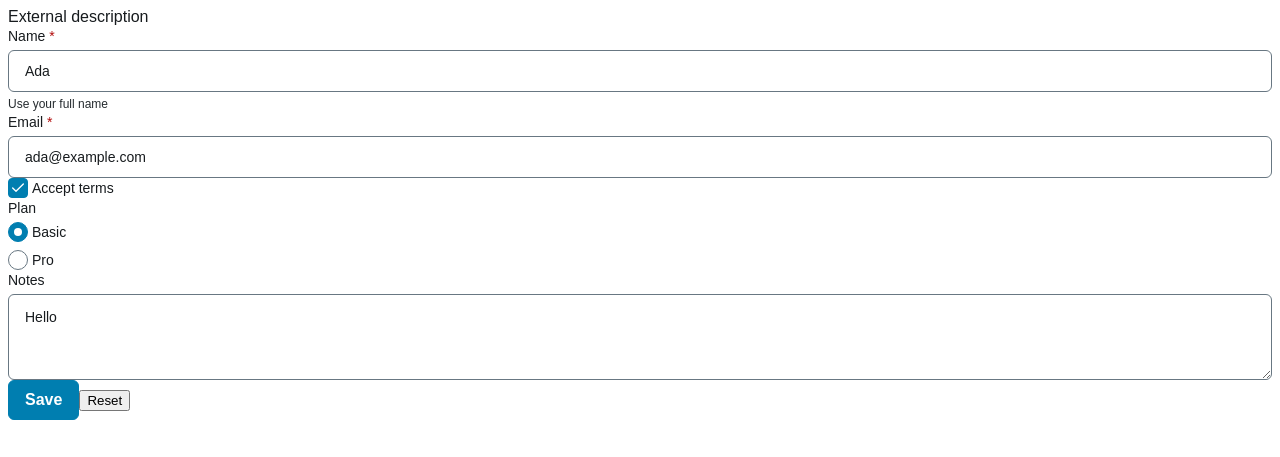
Test: RHF-ready fields › renders EmailField as email and focuses its invalid control on submission
The image size is (1280, 457).
Step 1. Replace the text in the field labelled "Email" with "invalid" → (640,157), box [9,138,1271,176]
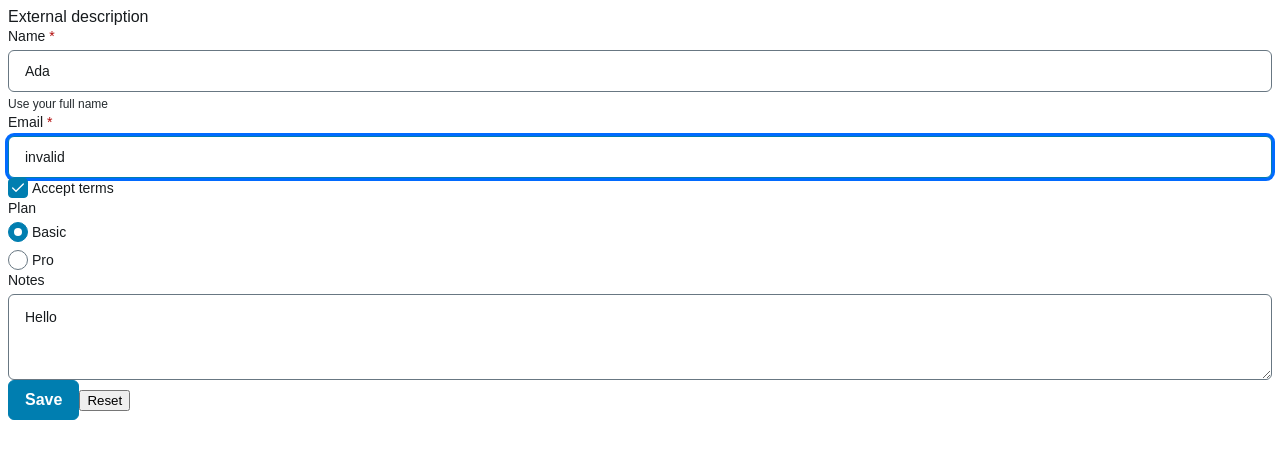
Step 2. Click the button "Save" → (44,400), box [8,380,79,420]
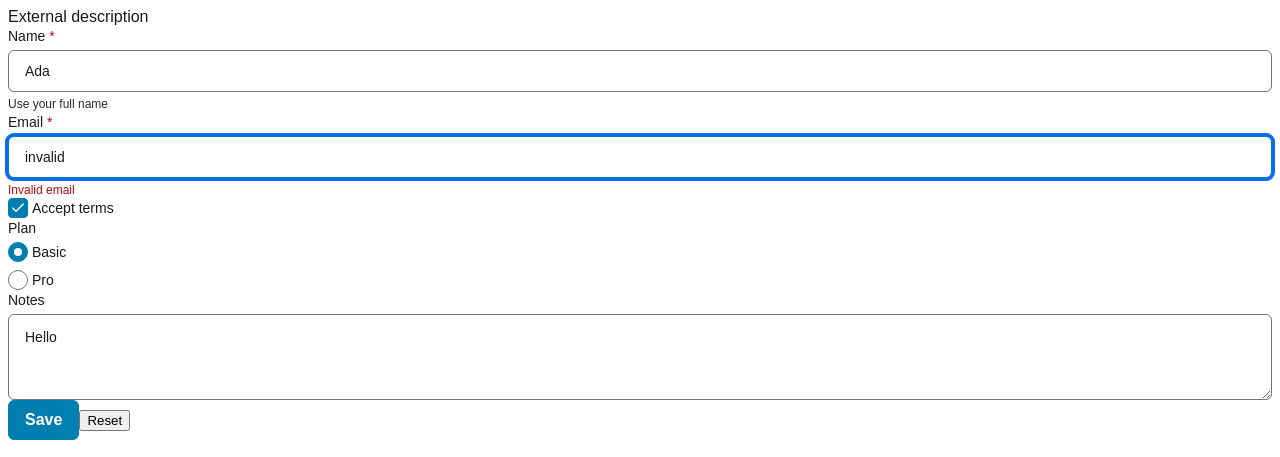
expect the message reads "Invalid email": met, box [8,183,75,197]
